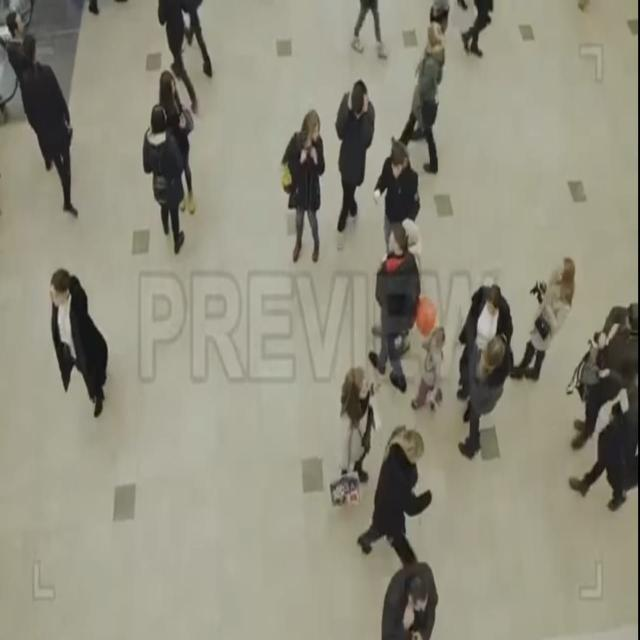humans: (18, 32, 78, 219), (356, 426, 433, 566), (570, 303, 640, 455), (46, 264, 108, 426), (565, 406, 640, 516), (368, 224, 414, 400), (398, 19, 449, 175), (282, 107, 328, 268), (519, 255, 575, 382), (139, 102, 185, 254), (459, 340, 514, 463), (333, 78, 375, 235), (159, 68, 195, 218), (378, 560, 440, 640), (341, 361, 377, 486), (376, 138, 421, 232), (410, 324, 449, 421), (156, 2, 188, 105), (459, 282, 512, 340), (347, 0, 391, 65), (183, 0, 215, 81), (462, 3, 498, 58), (4, 9, 25, 85)
